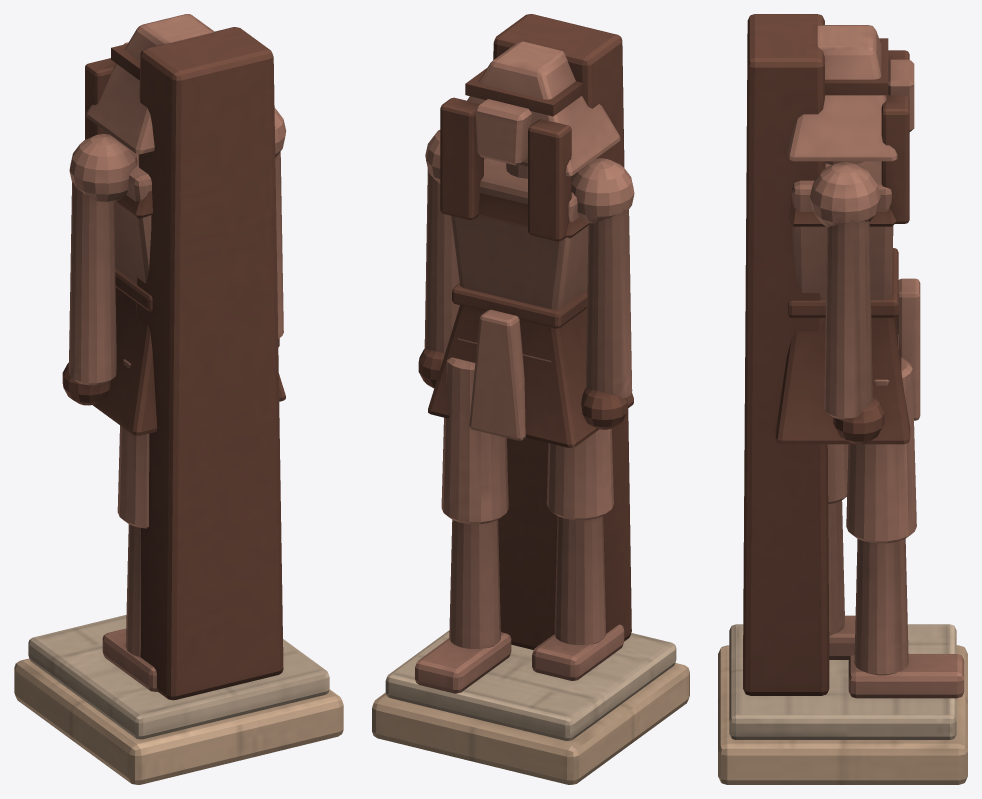
File: statue_standing.glb
The picture shows the model from 3 angles, left to right: view 1: azimuth 30°, elevation 25°; view 2: azimuth 150°, elevation 25°; view 3: azimuth 270°, elevation 25°; orthographic projection. The views are drawn at different scales.
Visible parts, largest first — view 1: statue_standing_granite_pale_shade, statue_standing_granite_pale, statue_standing_limestone_tomb, statue_standing_limestone_cap; view 2: statue_standing_granite_pale, statue_standing_granite_pale_shade, statue_standing_limestone_tomb, statue_standing_limestone_cap; view 3: statue_standing_granite_pale_shade, statue_standing_granite_pale, statue_standing_limestone_tomb, statue_standing_limestone_cap.
Boxes of the visible parts, <box> form: statue_standing_granite_pale_shade: <box>62,27,285,700</box>; statue_standing_granite_pale: <box>68,14,286,691</box>; statue_standing_limestone_tomb: <box>14,658,343,784</box>; statue_standing_limestone_cap: <box>28,615,329,739</box>; statue_standing_granite_pale: <box>415,41,634,693</box>; statue_standing_granite_pale_shade: <box>418,14,633,649</box>; statue_standing_limestone_tomb: <box>372,663,689,784</box>; statue_standing_limestone_cap: <box>385,630,676,740</box>; statue_standing_granite_pale_shade: <box>743,14,910,695</box>; statue_standing_granite_pale: <box>787,25,964,698</box>; statue_standing_limestone_tomb: <box>718,645,967,784</box>; statue_standing_limestone_cap: <box>729,624,956,739</box>.
Size of the model in its own units: 0.55 by 1.7 by 0.55.
4 materials, 4 textured.
